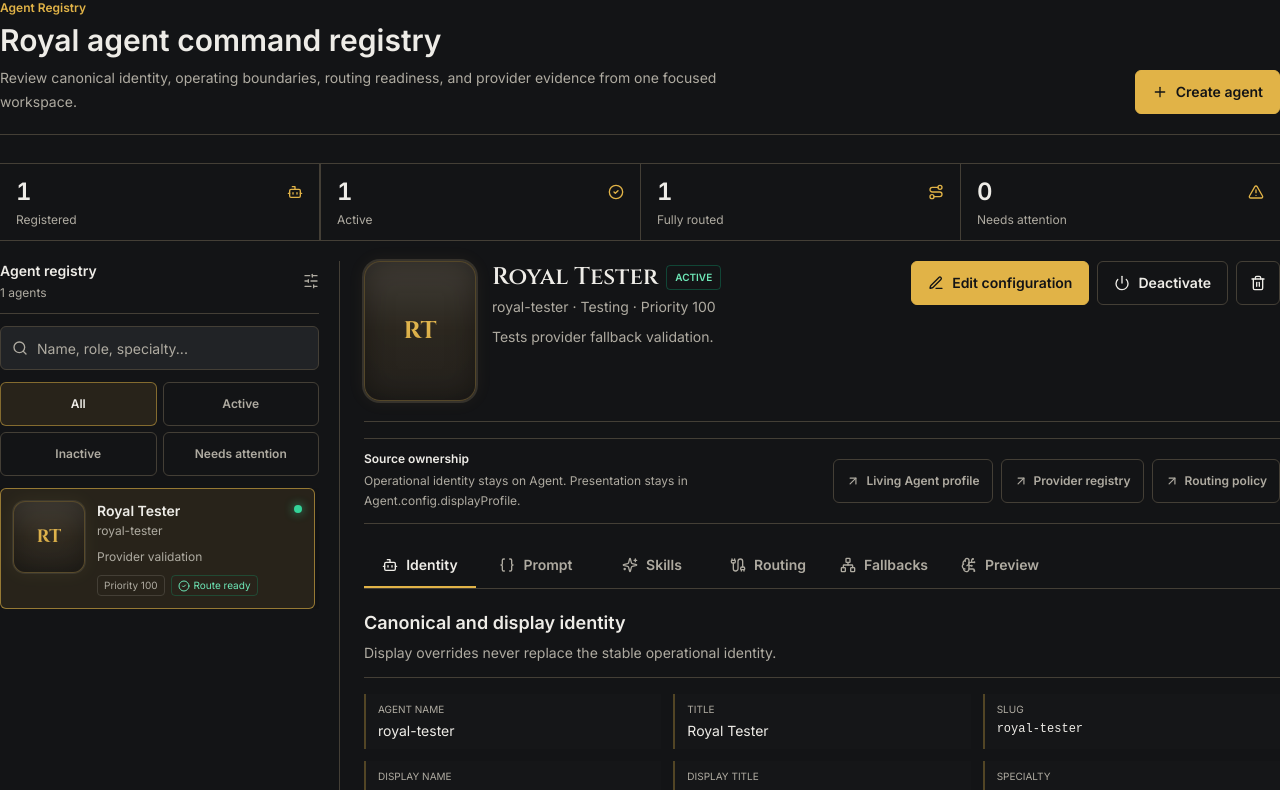
Test: AgentsPage registry workspace › keeps creation explicit and exposes focused source-owned sections
Expected: the heading "Royal agent command registry" is shown, [0,22,442,58]
Expected: the navigation bar named "Agent configuration sections" is shown, [364,544,1279,589]
What coordinates should you click on to do the following:
click the button "Create agent"
I would click on:
 (1207, 92)
Its box is [1135,70,1279,114].
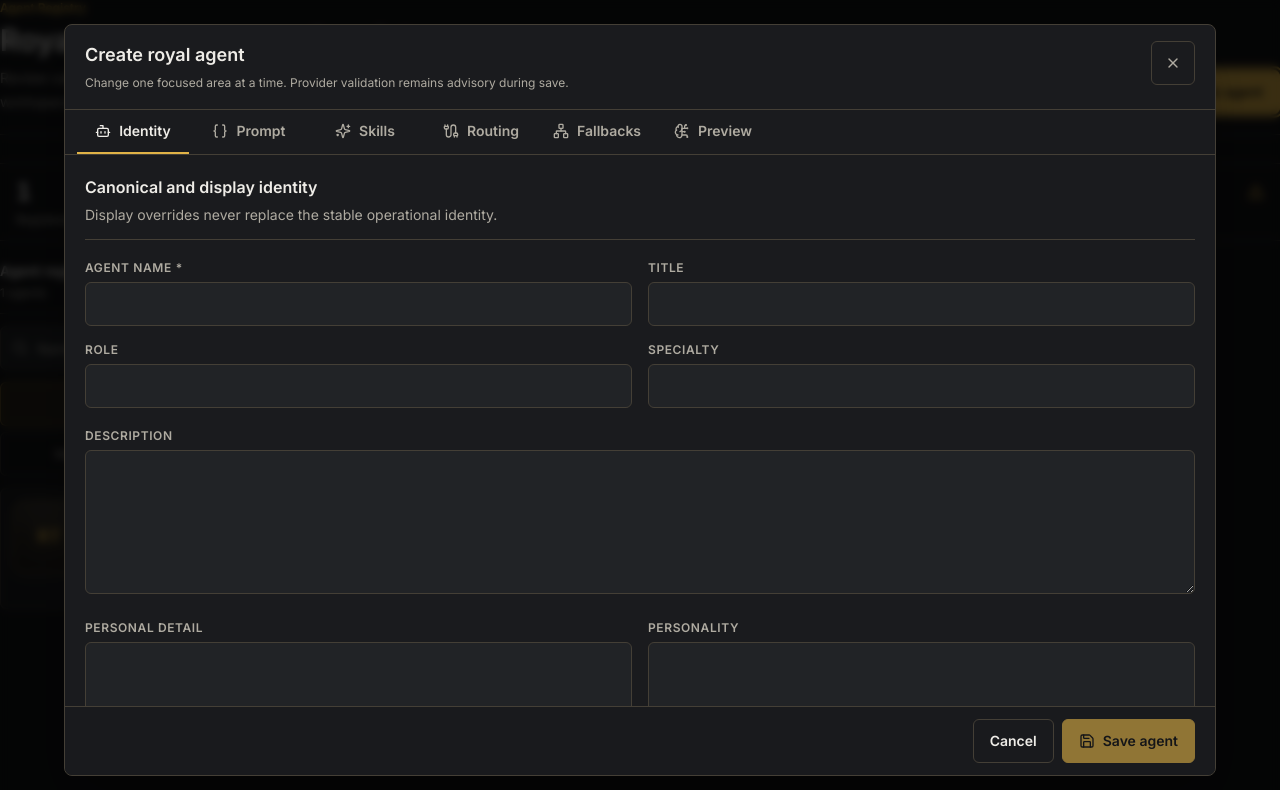
Result: the button "Identity" is shown at [77,110,189,154]
Result: the button "Prompt" is shown at [193,110,305,154]
Result: the button "Skills" is shown at [309,110,421,154]
